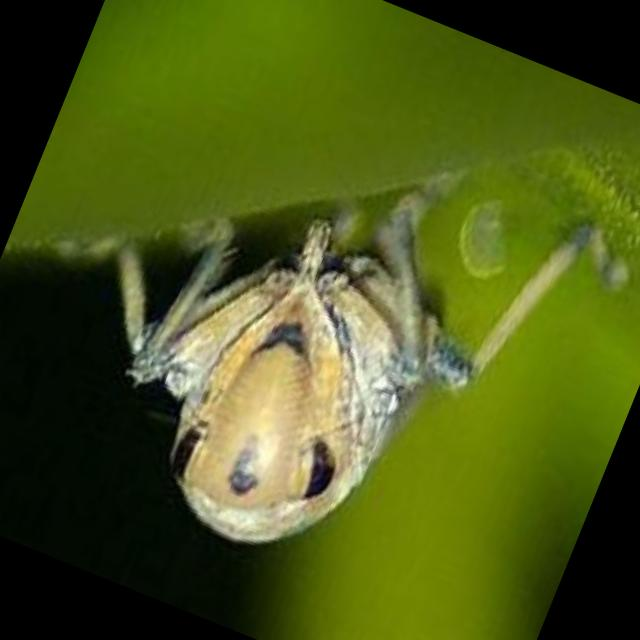green-leafhopper: (55, 93, 561, 614)
